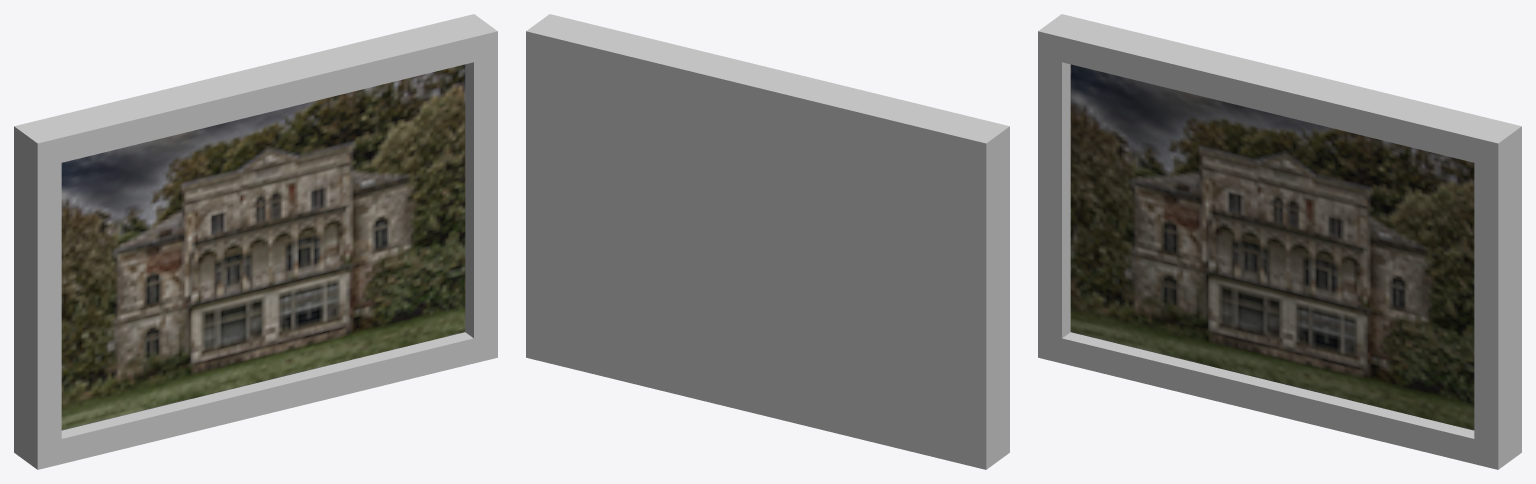
File: Painting2.fbx
3 renders of one model, left to right at view 1: azimuth 30°, elevation 25°; view 2: azimuth 150°, elevation 25°; view 3: azimuth 330°, elevation 25°, orthographic.
Parts seen in each view (by area): view 1: Plane.046; view 2: Plane.046; view 3: Plane.046.
Boxes of the visible parts, bbox=[...] form: Plane.046: bbox=[14, 14, 497, 469]; Plane.046: bbox=[526, 14, 1009, 469]; Plane.046: bbox=[1038, 14, 1521, 469].
Size of the model in its own units: 96.28 by 65.26 by 8.56.
